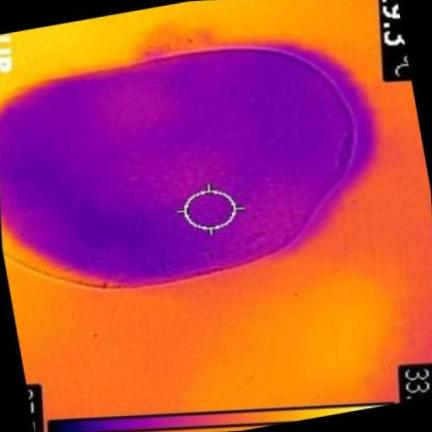mango: (0, 49, 370, 288)
